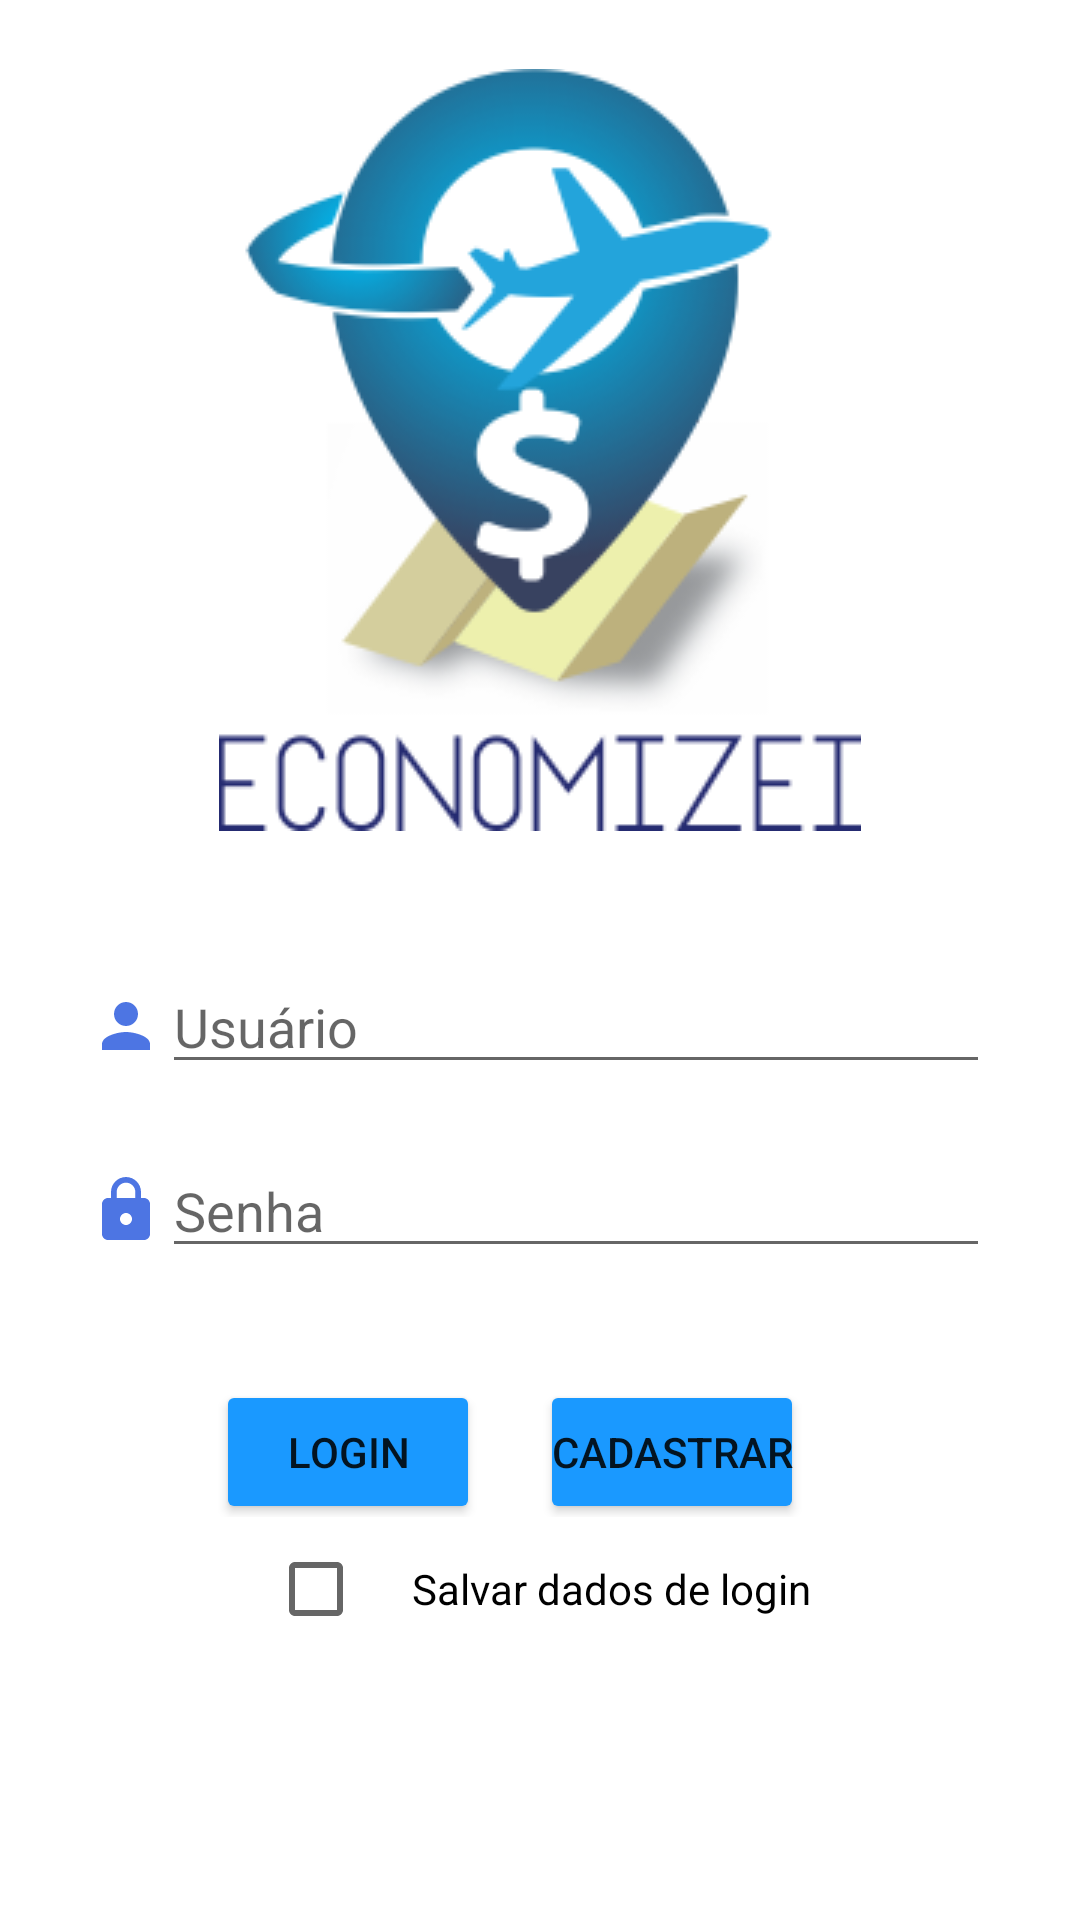

Where to tap for icons on this 1080x1920 app screen, as (x,y):
lock: (126,1208)
person: (126,1026)
